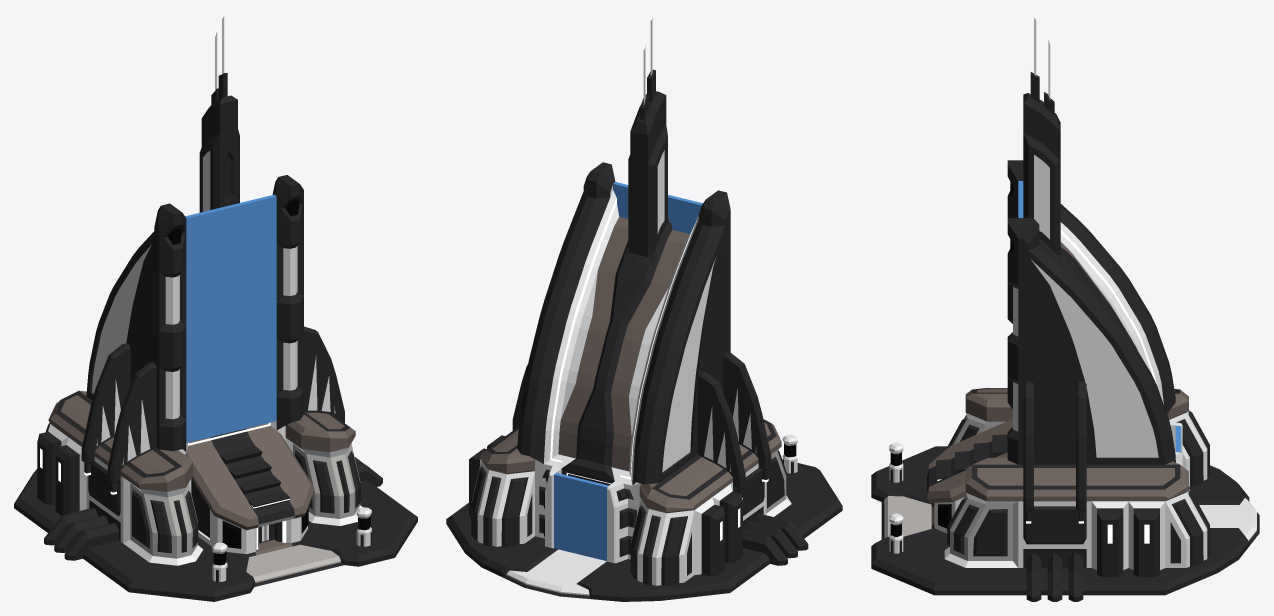
File: InformationCenter.fbx
The picture shows the model from 3 angles, left to right: view 1: azimuth 30°, elevation 25°; view 2: azimuth 150°, elevation 25°; view 3: azimuth 270°, elevation 25°; orthographic projection. The views are drawn at different scales.
Parts seen in each view (by area): view 1: InformationCenter_Body, InformationCenter_ForwardDisplay, InformationCenter_Foundation, InformationCenter_Parts; view 2: InformationCenter_Body, InformationCenter_Foundation, InformationCenter_Parts, InformationCenter_BackwardDisplay, InformationCenter_ForwardDisplay; view 3: InformationCenter_Body, InformationCenter_Foundation, InformationCenter_Parts.
Boxes of the visible parts, x1,y1,x2,y2 form: InformationCenter_Body: [37, 14, 362, 565]; InformationCenter_ForwardDisplay: [185, 194, 276, 442]; InformationCenter_Foundation: [14, 469, 417, 601]; InformationCenter_Parts: [44, 326, 382, 581]; InformationCenter_Body: [469, 14, 791, 585]; InformationCenter_Foundation: [446, 463, 842, 601]; InformationCenter_Parts: [512, 352, 808, 565]; InformationCenter_BackwardDisplay: [554, 473, 608, 560]; InformationCenter_ForwardDisplay: [613, 182, 702, 233]; InformationCenter_Body: [927, 14, 1209, 576]; InformationCenter_Foundation: [871, 446, 1259, 595]; InformationCenter_Parts: [889, 381, 1086, 601].
Bounding box in the file's own units: 3500 × 5361 × 3700.
Materials: 2 (1 with a texture image).
